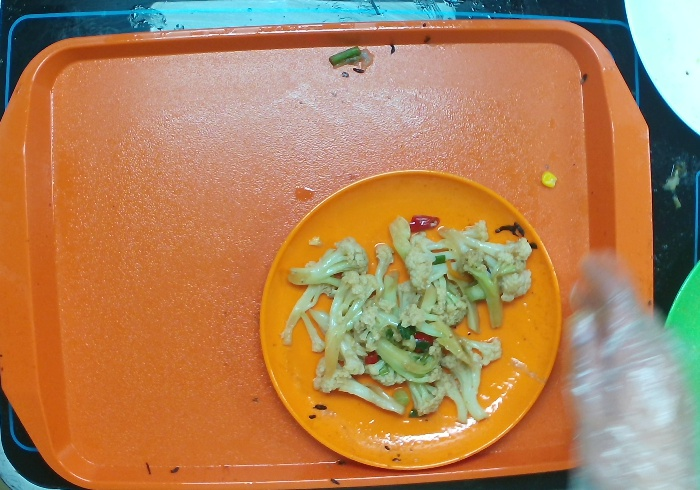HZYJPL-Ju_Huang_Yuan_Pan: (257, 168, 564, 471)
